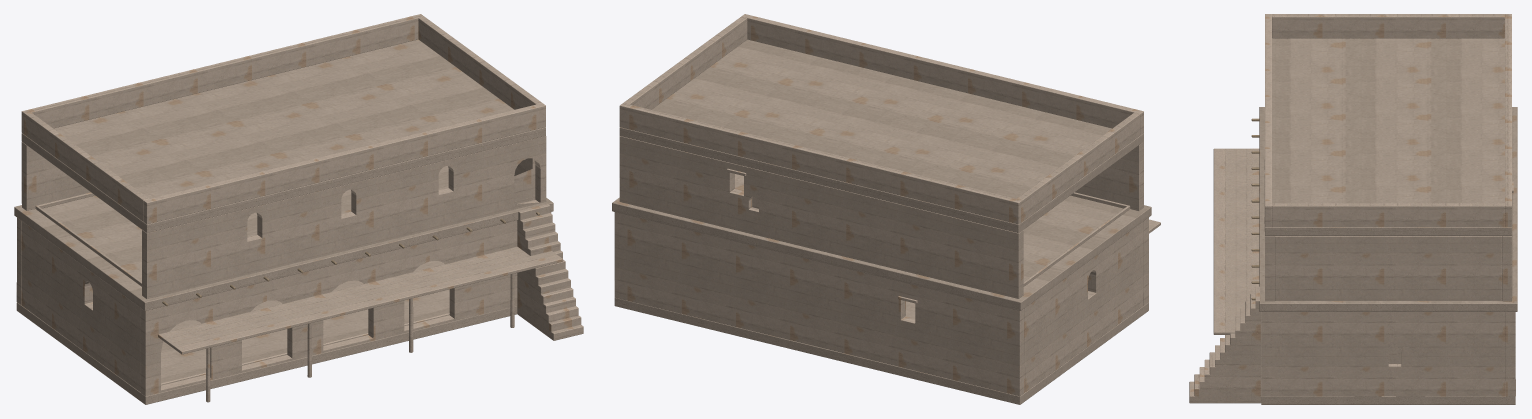
The model's file is shops_11.glb.
3 renders of one model, left to right at view 1: azimuth 30°, elevation 25°; view 2: azimuth 150°, elevation 25°; view 3: azimuth 270°, elevation 25°, orthographic.
Parts seen in each view (by area): view 1: shops; view 2: shops; view 3: shops.
Boxes of the visible parts, left/top/right/bottom form: shops: left=14, top=14, right=583, bottom=404; shops: left=612, top=14, right=1160, bottom=404; shops: left=1189, top=14, right=1517, bottom=404.
Bounding box in the file's own units: 19.61 × 9.18 × 13.81.
Materials: 3 (3 with a texture image).
